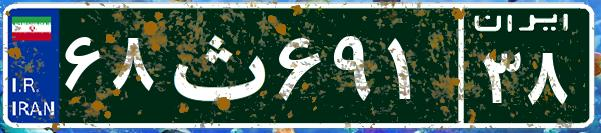1: (385, 28, 445, 110)
3: (475, 38, 525, 113)
6: (273, 28, 330, 110), (57, 26, 110, 107)
8: (110, 28, 158, 105), (525, 38, 570, 115)
9: (330, 28, 385, 110)
ث: (158, 15, 273, 115)
